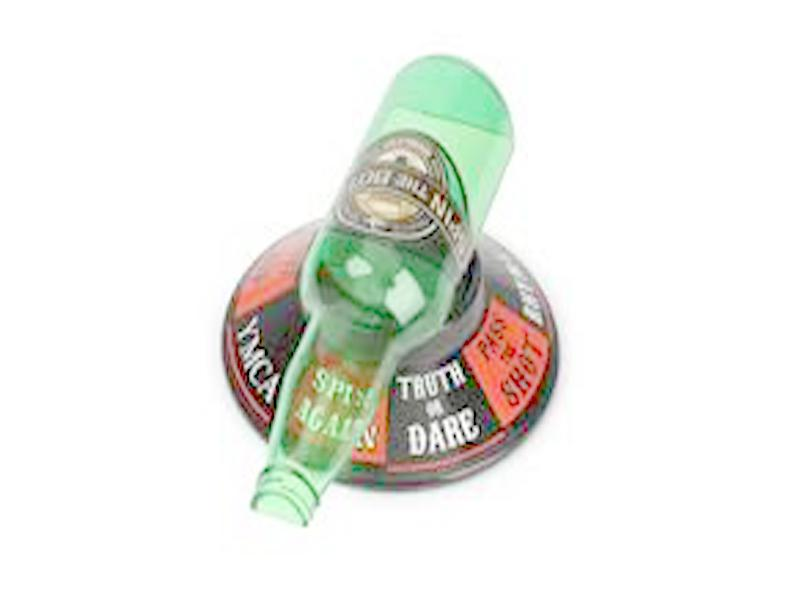Beer: (253, 55, 517, 527)
